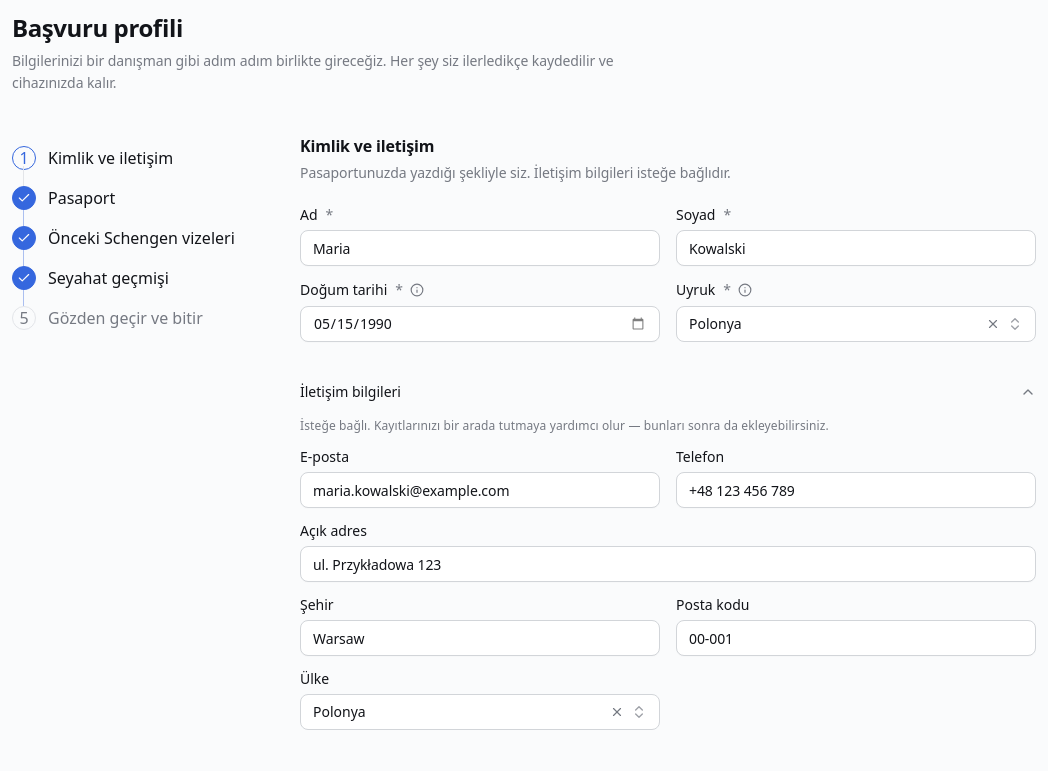
Test: Applicant wizard — interaction › validates inline when a required field is cleared
Clear the field labelled "Ad *". click: (480,248)
box: [300,230,660,266]
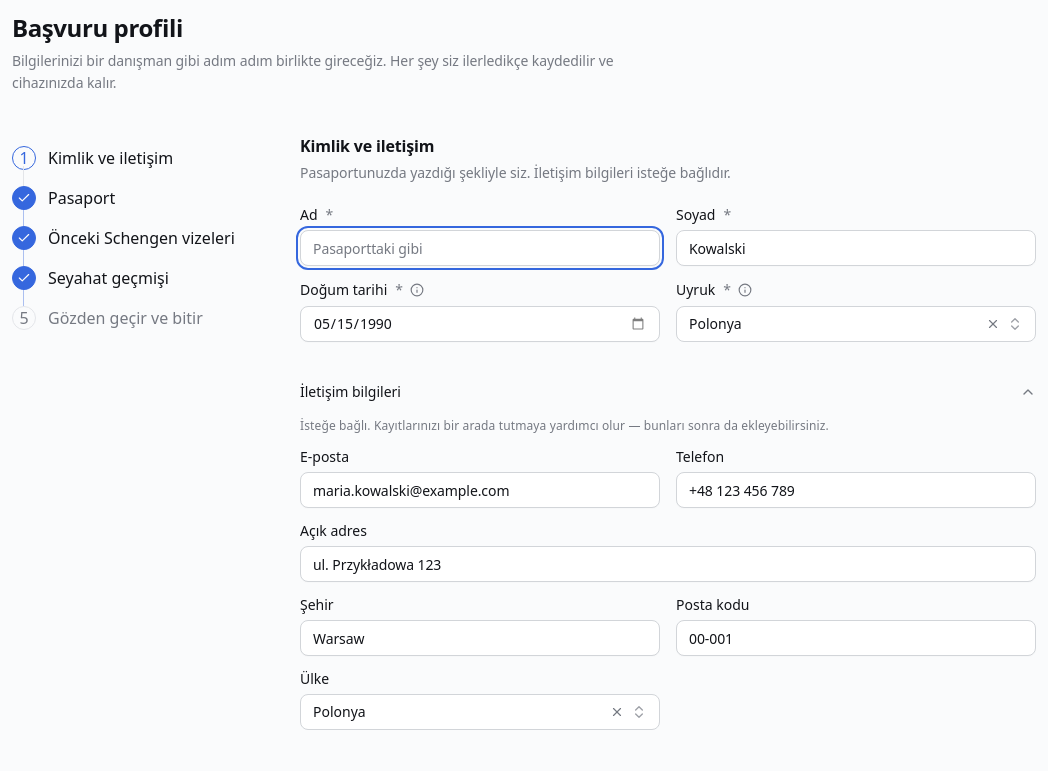
Press Tab
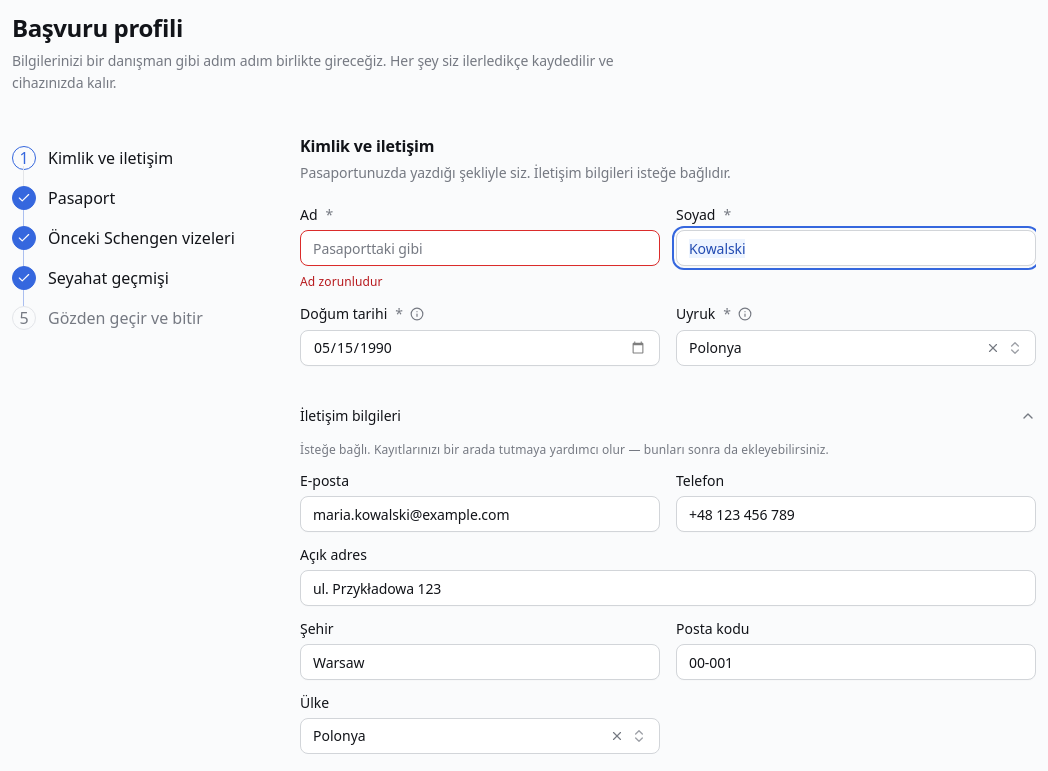
Now the message reads "Ad zorunludur", box [300,273,383,290]
